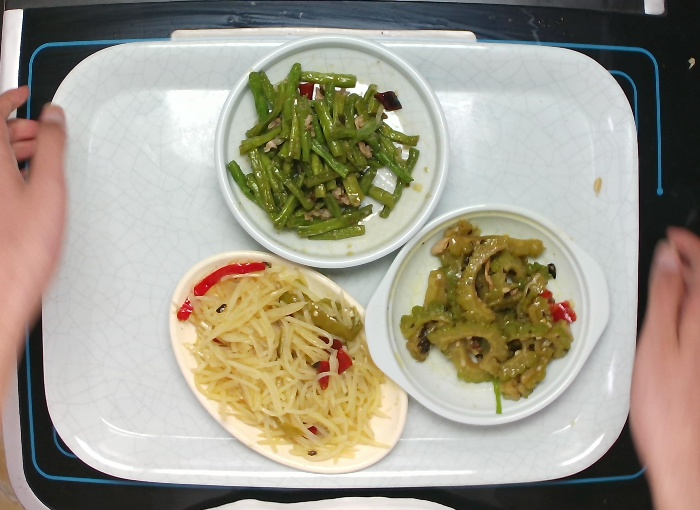JYsf-Shuang_Er_Pan: (361, 200, 613, 429)
JYsf-Tuo_Yuan_Wan: (166, 248, 412, 476)
JYsf-Xiao_Yuan_Pan: (211, 33, 454, 273)
